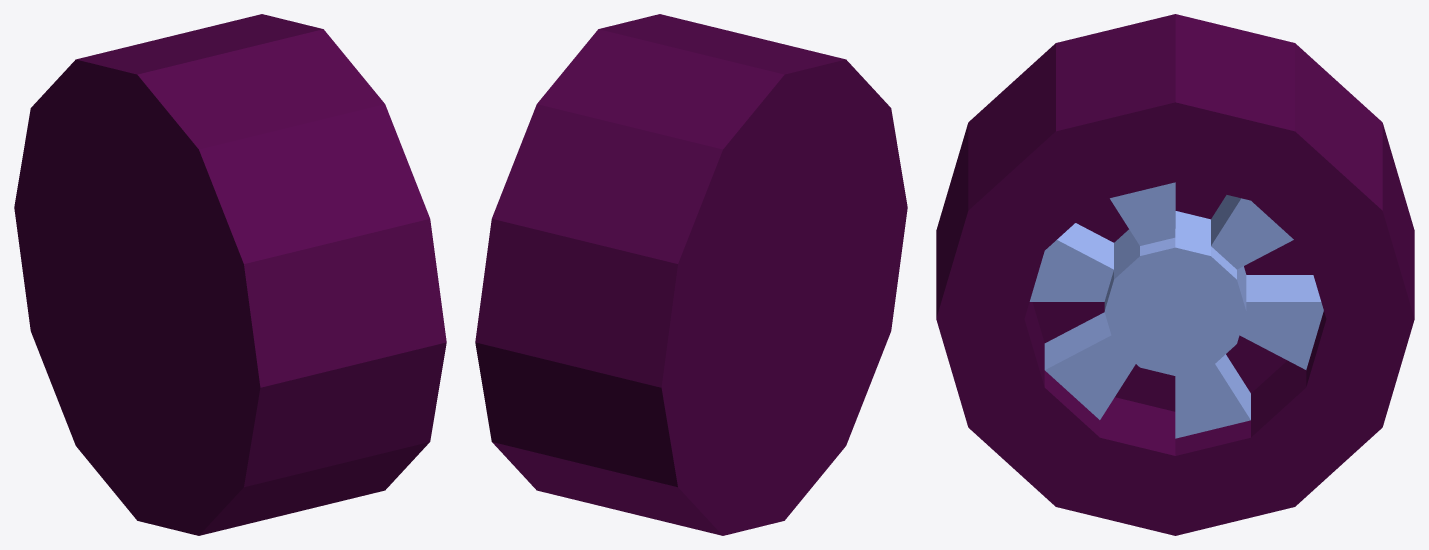
Rendered from wheel.fbx.
3 views of the same model, side by side, from view 1: azimuth 30°, elevation 25°; view 2: azimuth 150°, elevation 25°; view 3: azimuth 270°, elevation 25° (orthographic). The views are drawn at different scales.
Visible parts, largest first — view 1: wheel; view 2: wheel; view 3: wheel.
Boxes of the visible parts, <box> form: wheel: <box>14,14,446,535</box>; wheel: <box>475,14,907,535</box>; wheel: <box>936,14,1414,535</box>.
Size of the model in its own units: 0.2899 by 0.6634 by 0.6634.
